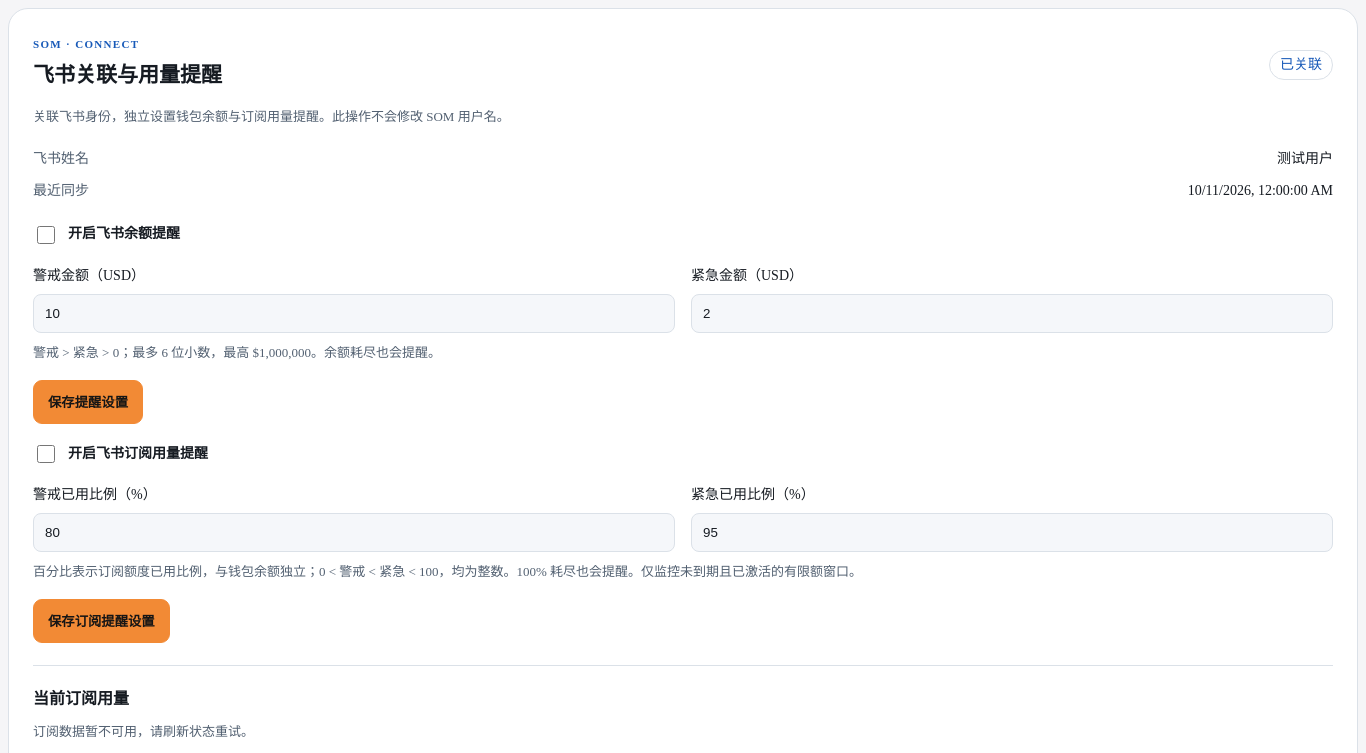
Test: ProfileFeishuCard › rejects decimal percentages and shows unavailable data without zero quotas
Replace the text in the field named "subscription-warning" with "80.5" at {"x": 354, "y": 533}, box [33, 513, 675, 552]
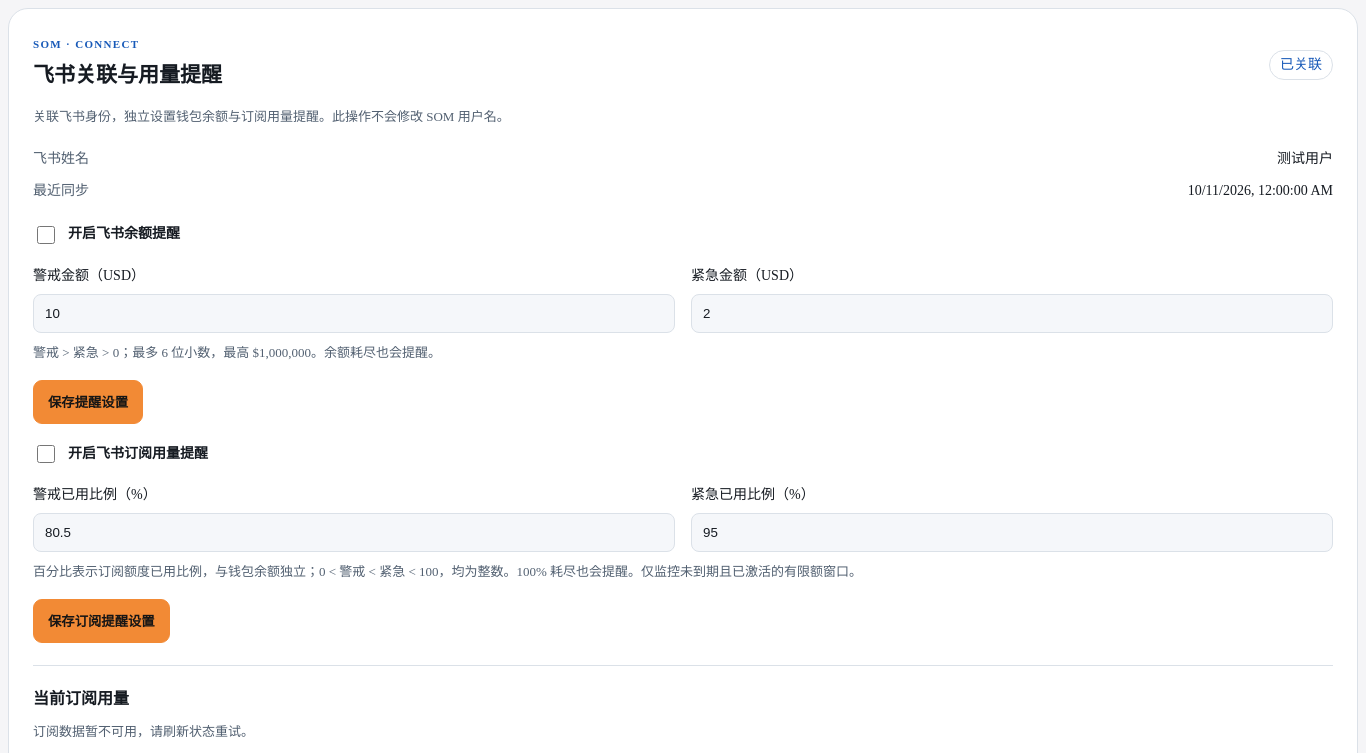
Submit the form named "订阅用量提醒设置", box [33, 442, 1333, 643]
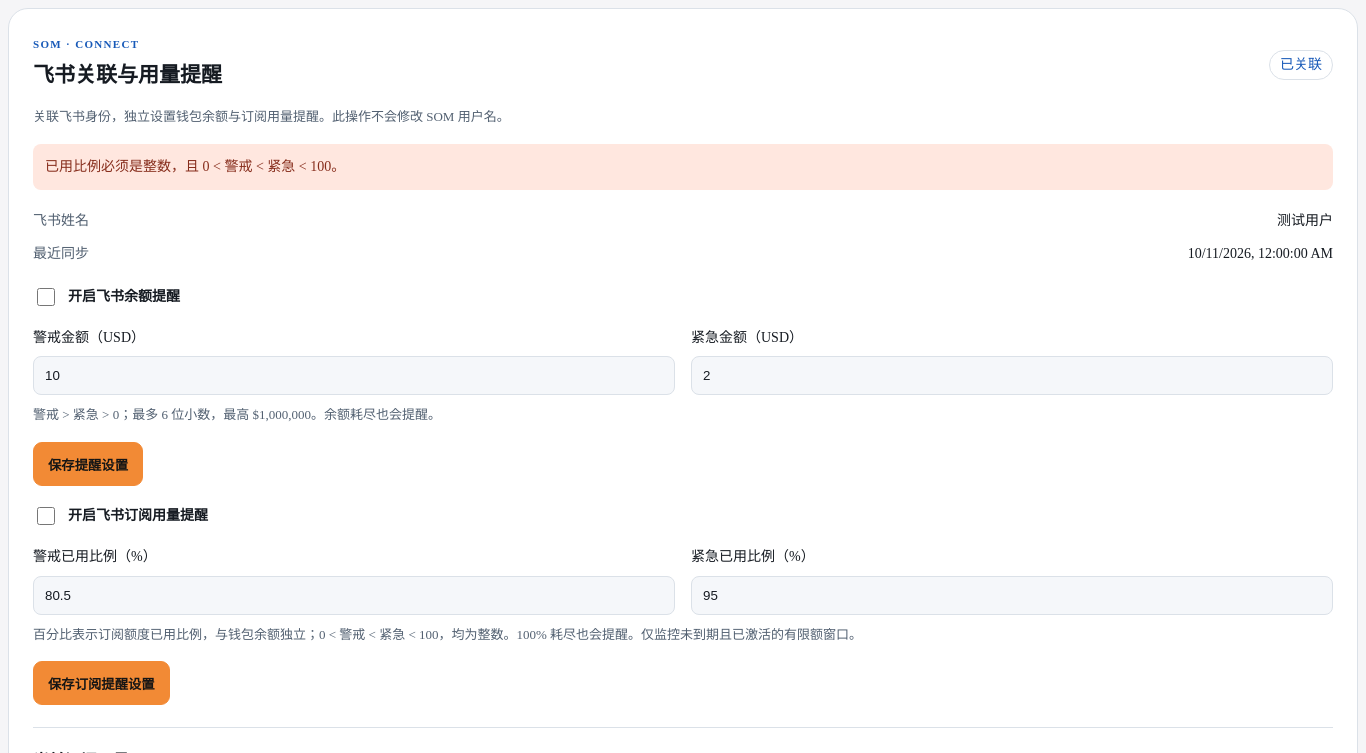
Expected: the message "已用比例必须是整数，且 0 < 警戒 < 紧急 < 100。" is shown, [33, 144, 1333, 190]
